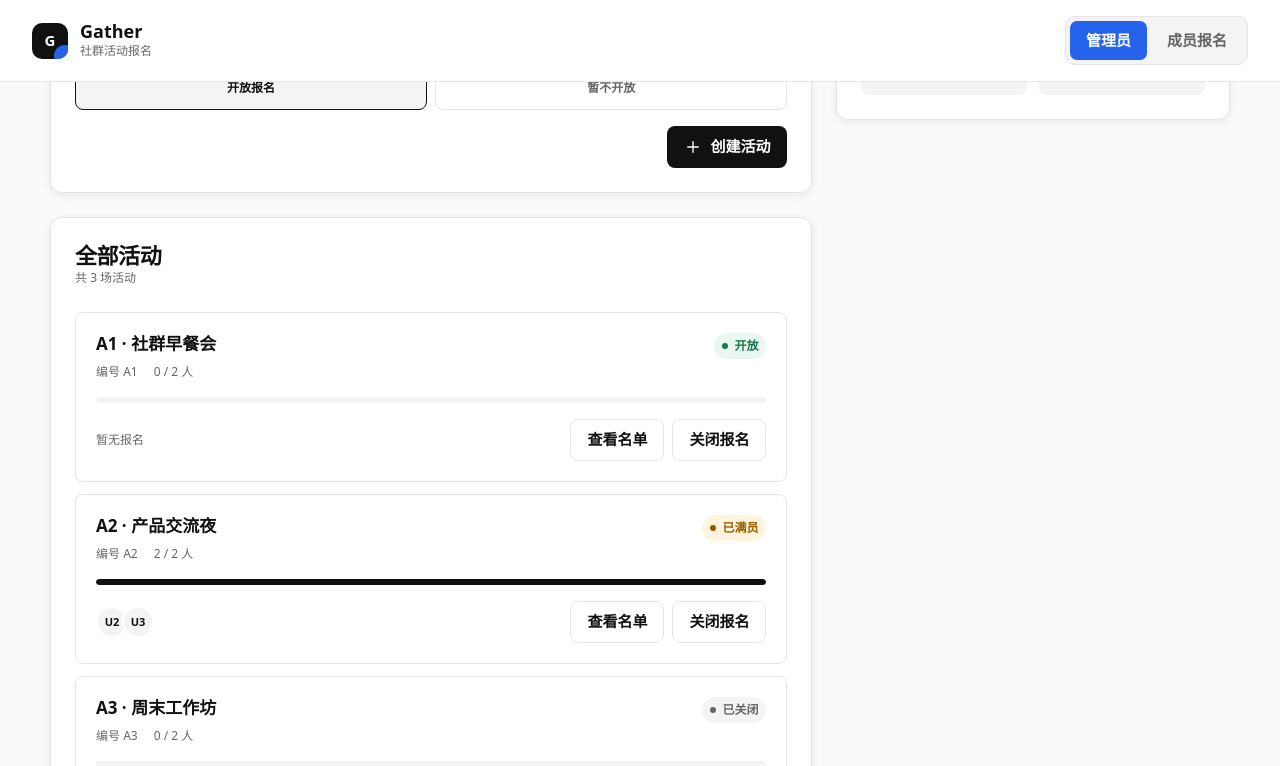
Repository 写入失败回滚 › 状态切换写入失败时仍保持原开放状态
(page scrolled)
Click the 1st button "关闭报名": point(719, 440) [672,420,766,461]
(page scrolled)
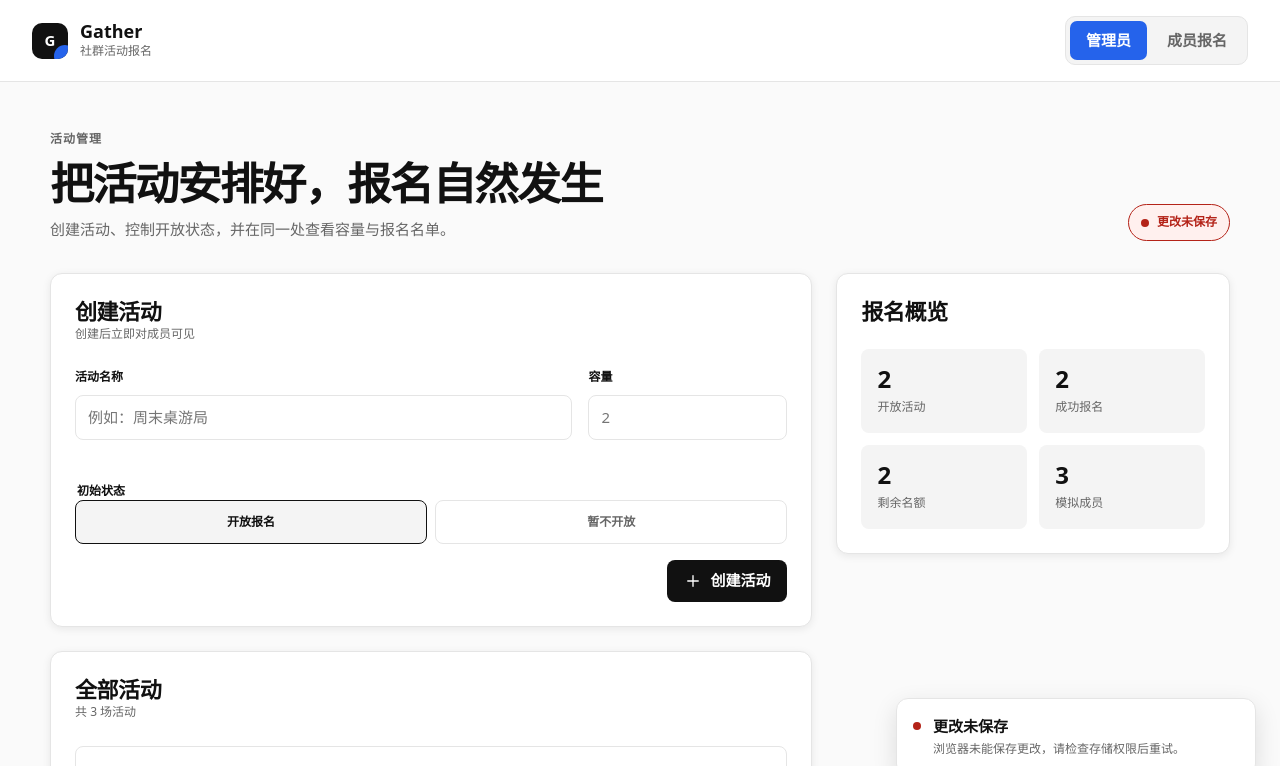
Expected: the text "更改未保存" is shown, [1128,204,1230,241]
